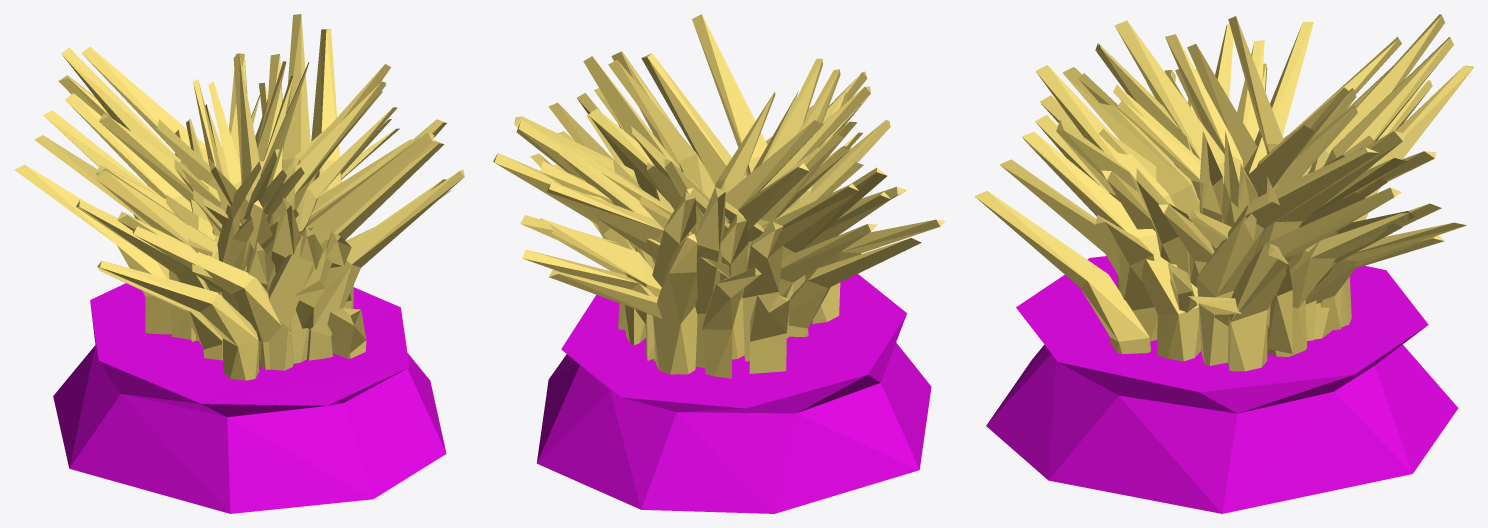
Rendered from anemona.fbx.
The picture shows the model from 3 angles, left to right: view 1: azimuth 30°, elevation 25°; view 2: azimuth 150°, elevation 25°; view 3: azimuth 270°, elevation 25°; orthographic projection. The views are drawn at different scales.
Parts seen in each view (by area): view 1: Cylinder.023, Cylinder; view 2: Cylinder.023, Cylinder; view 3: Cylinder.023, Cylinder.
Boxes of the visible parts, box(x1,y1,x2,y2) form: Cylinder.023: box(14, 14, 464, 380); Cylinder: box(53, 283, 446, 513); Cylinder.023: box(493, 14, 945, 378); Cylinder: box(536, 274, 931, 513); Cylinder.023: box(974, 14, 1473, 371); Cylinder: box(986, 256, 1458, 513).
Size of the model in its own units: 417 by 350 by 440.
